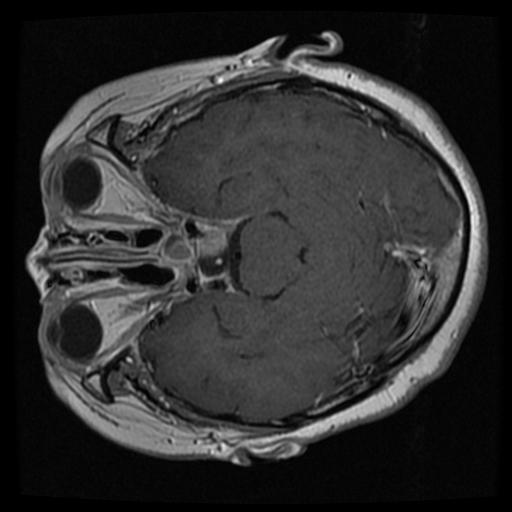pituitary tumour: (195, 229, 233, 281)
